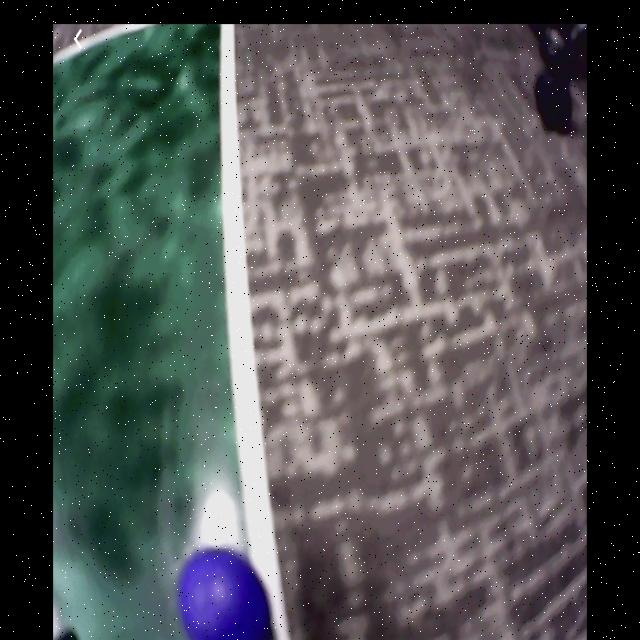ball: (178, 550, 272, 637)
